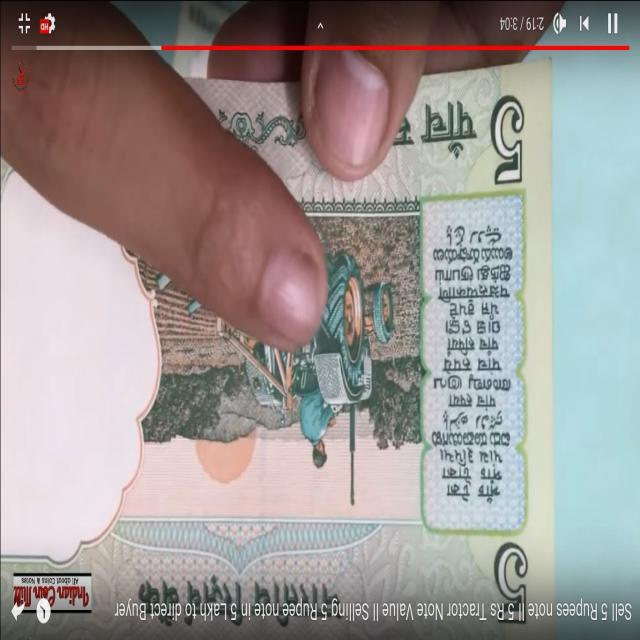5IndianRupees: (0, 75, 554, 624)
